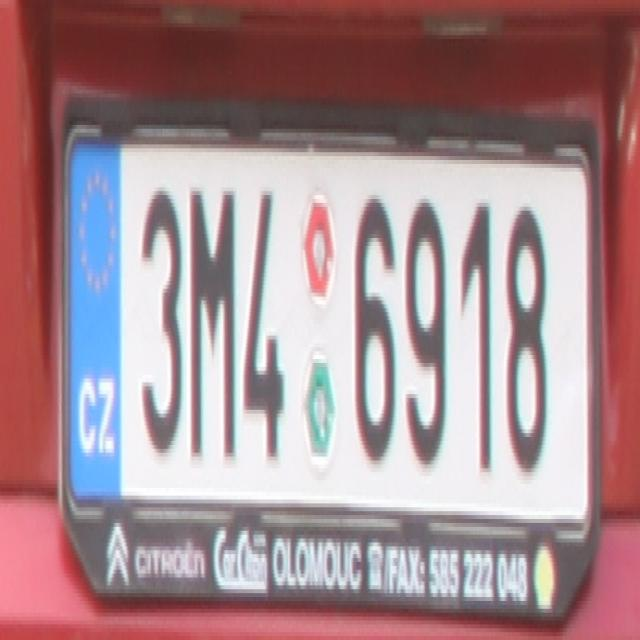1: (459, 203, 496, 476)
3: (137, 191, 182, 453)
4: (242, 191, 284, 453)
6: (354, 192, 394, 464)
8: (506, 195, 548, 465)
9: (404, 203, 444, 453)
M: (189, 187, 235, 457)
